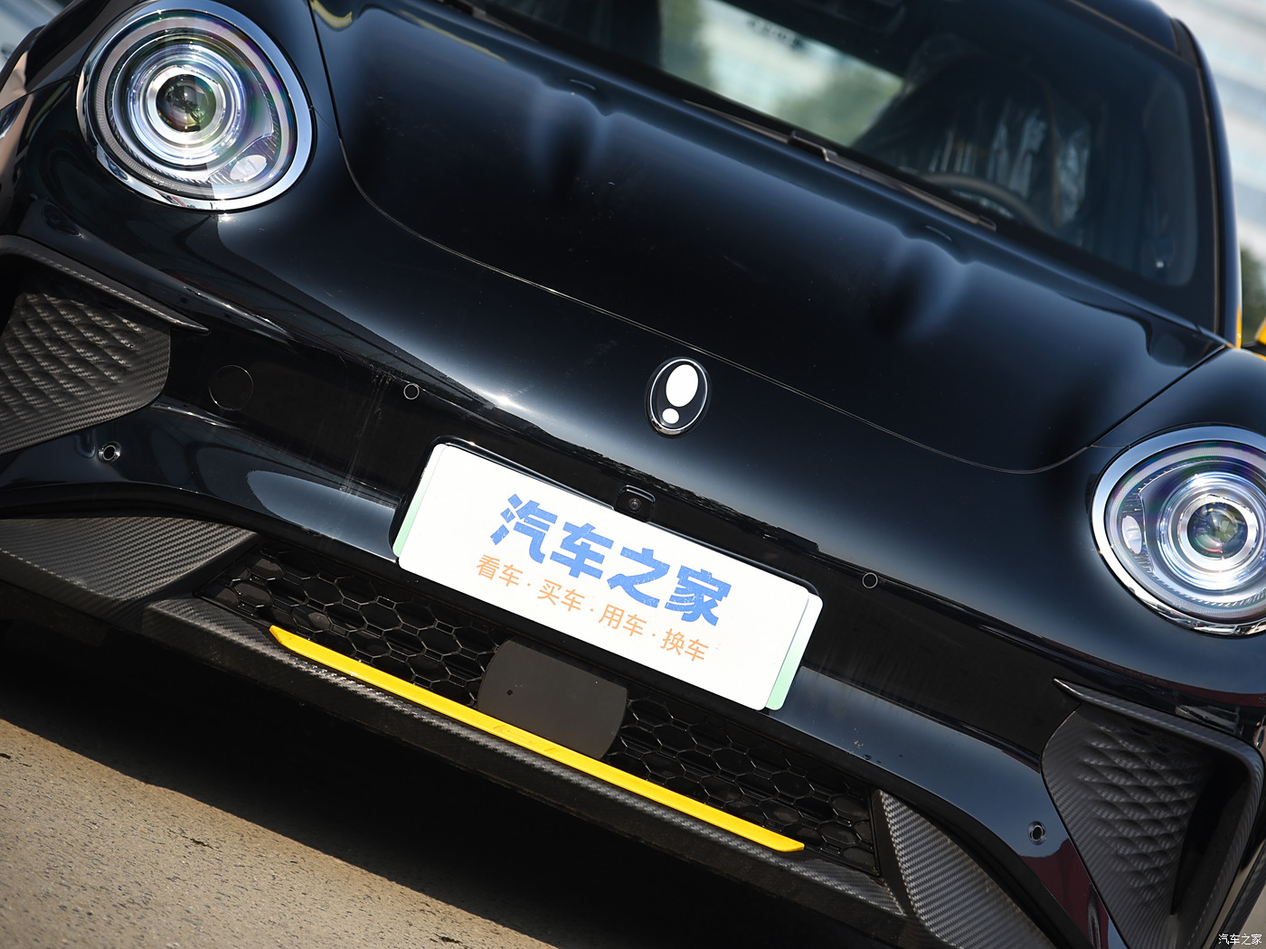ORA: (650, 360, 707, 435)
